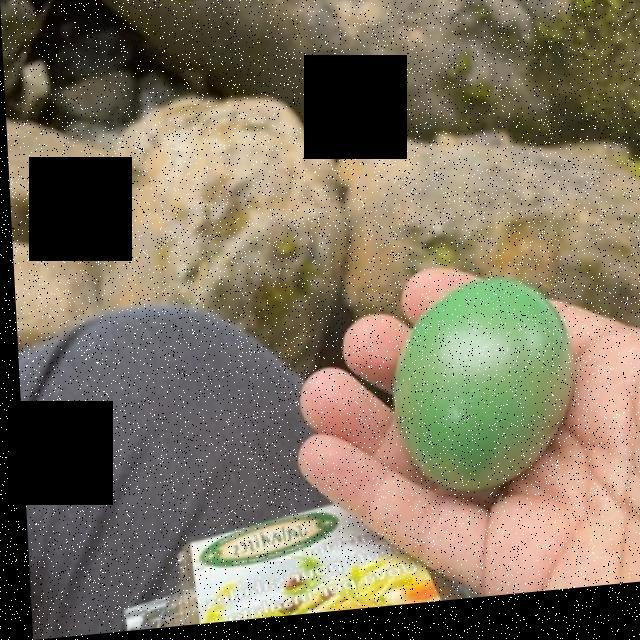egg: (395, 289, 580, 508)
